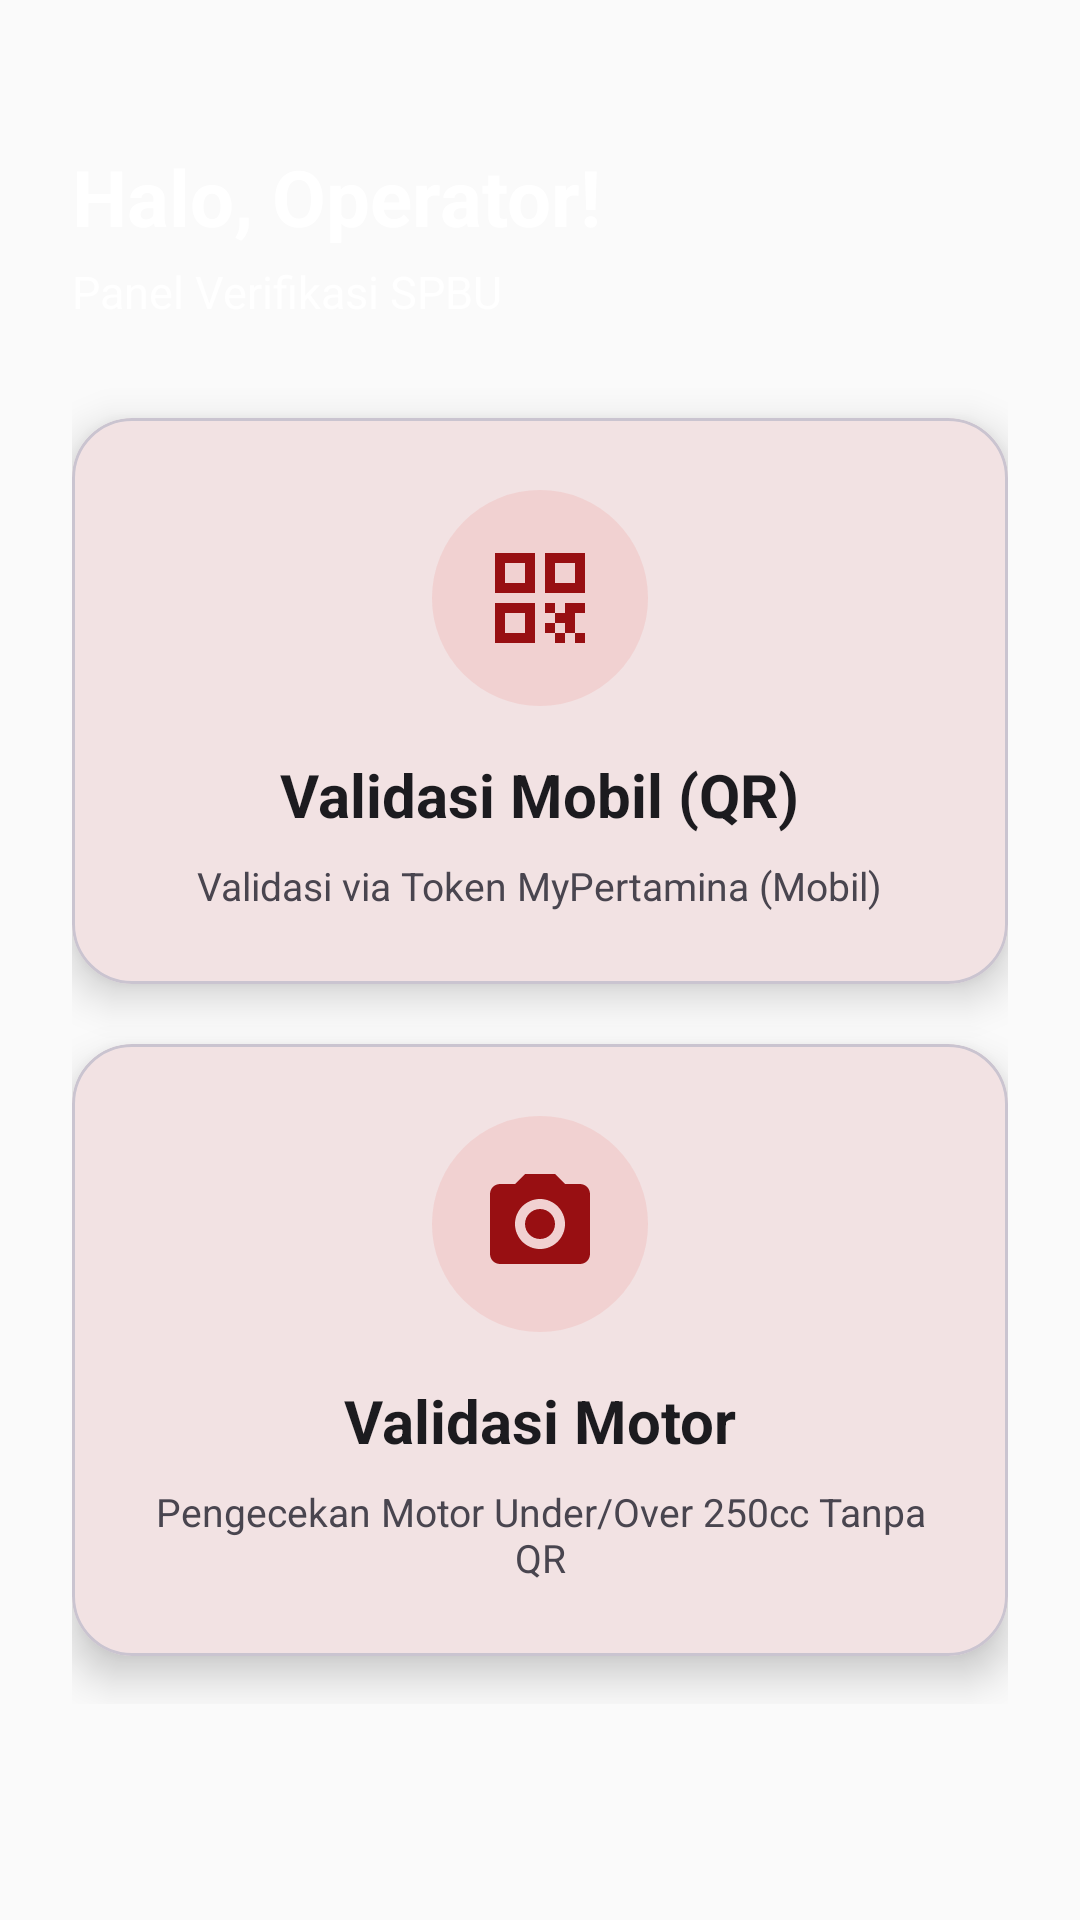

Screen size 1080px x 1920px. Icon name, then its center in pixels as [x,y]:
camera: [540,1219]
qr code: [540,598]
